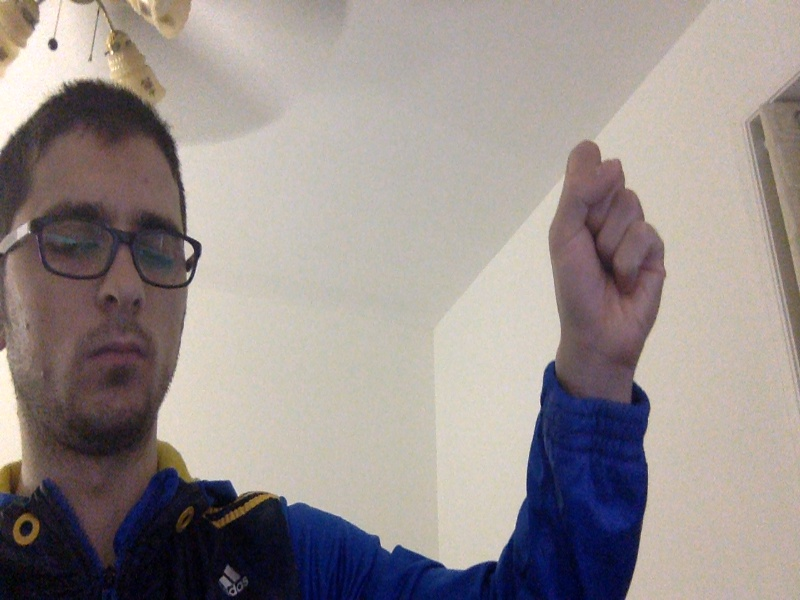0-hand: (551, 140, 665, 345)
